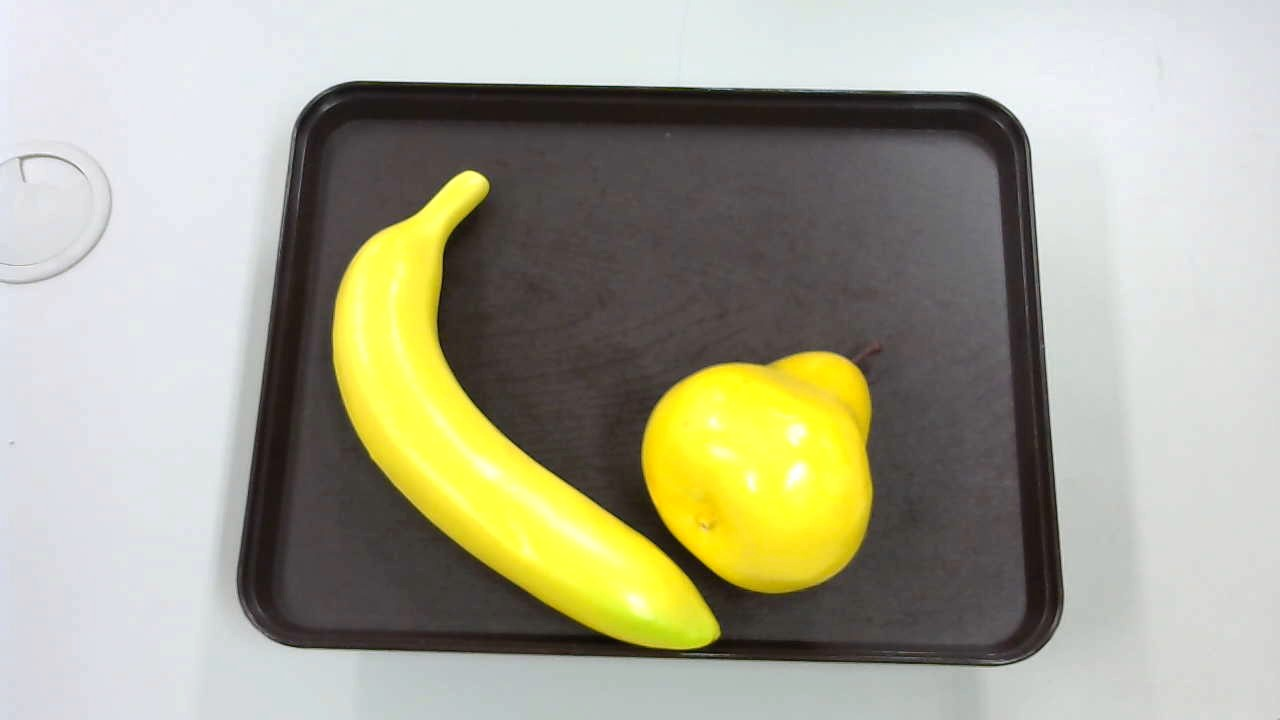banana: (319, 165, 731, 656)
yellow pear: (633, 337, 886, 590)
